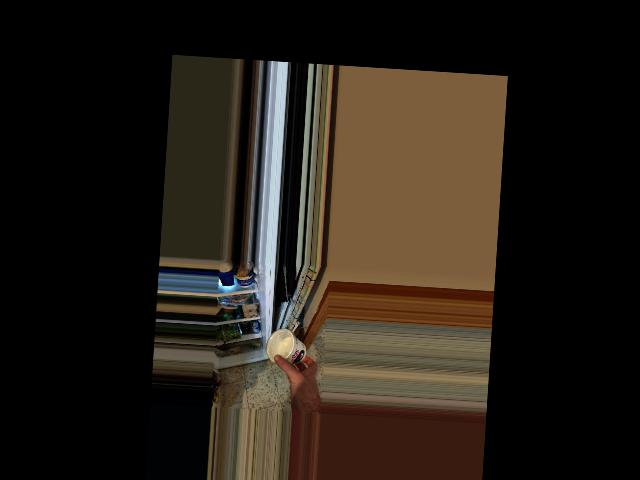cotage: (265, 326, 311, 370)
